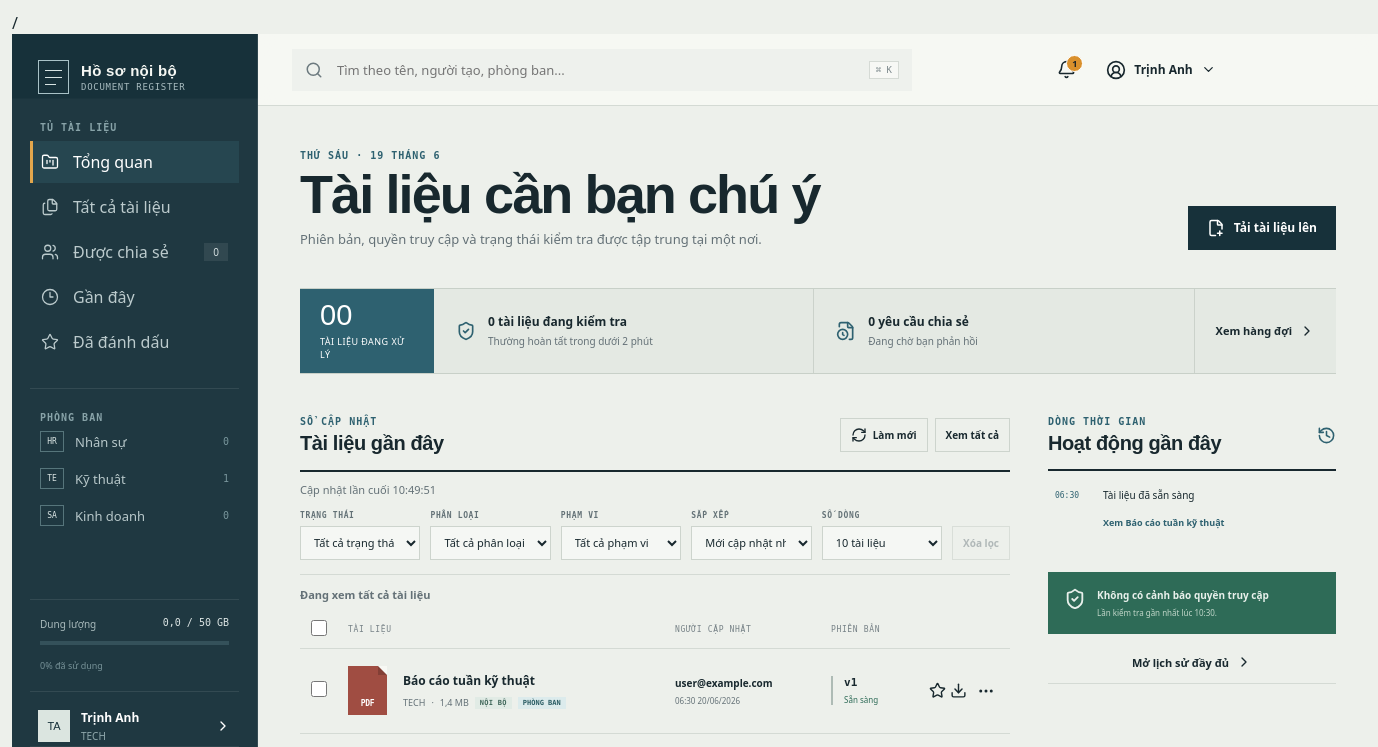
Test case: App › điều hướng sidebar sang trang tất cả tài liệu và quay lại tổng quan
Expected: the button "Báo cáo tuần kỹ thuật" is shown, [403,672,535,689]
Click the button "Tất cả tài liệu".
click(134, 207)  # box [30,186,239,228]
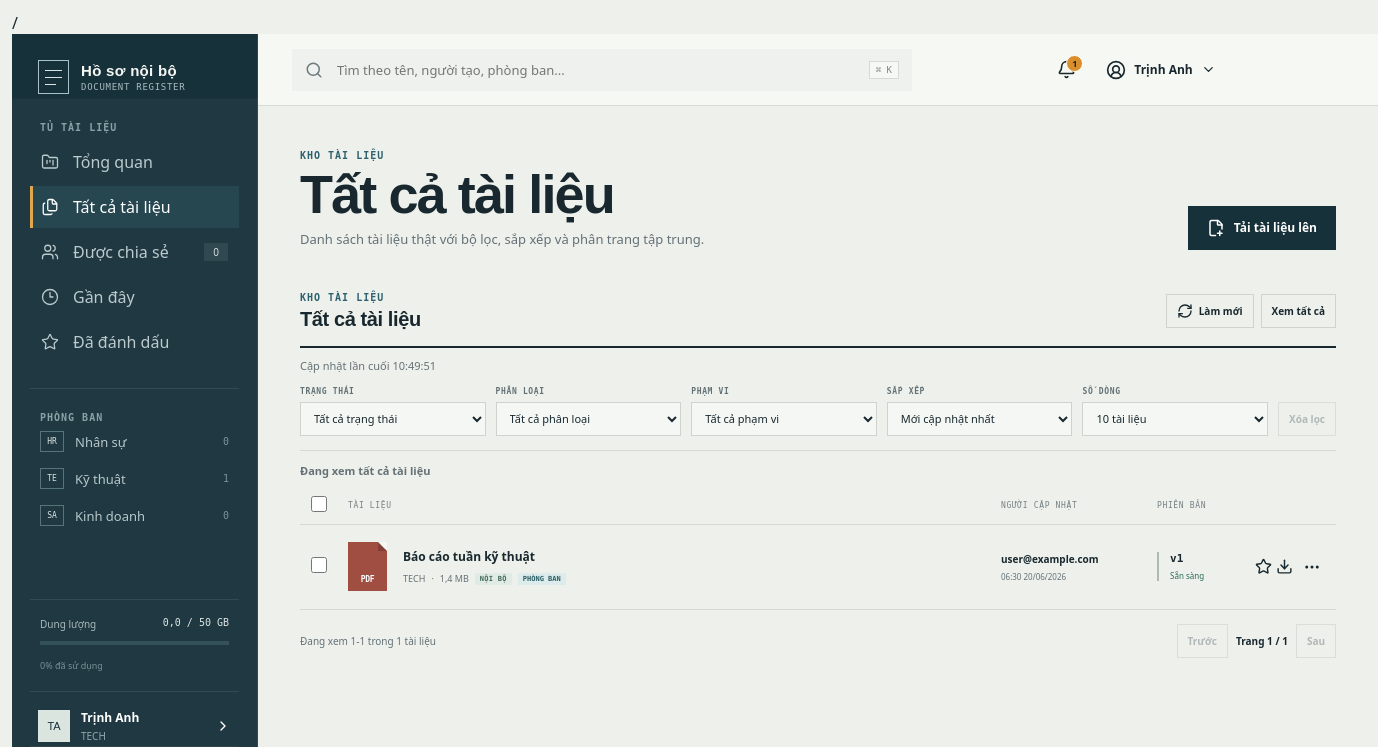
Result: the 1st heading "Tất cả tài liệu" is shown at [300,164,614,224]
Result: the heading "Tài liệu gần đây" is gone
Result: the heading "Hoạt động gần đây" is gone
Click the button "Tổng quan".
click(134, 162)  # box [30,141,239,183]
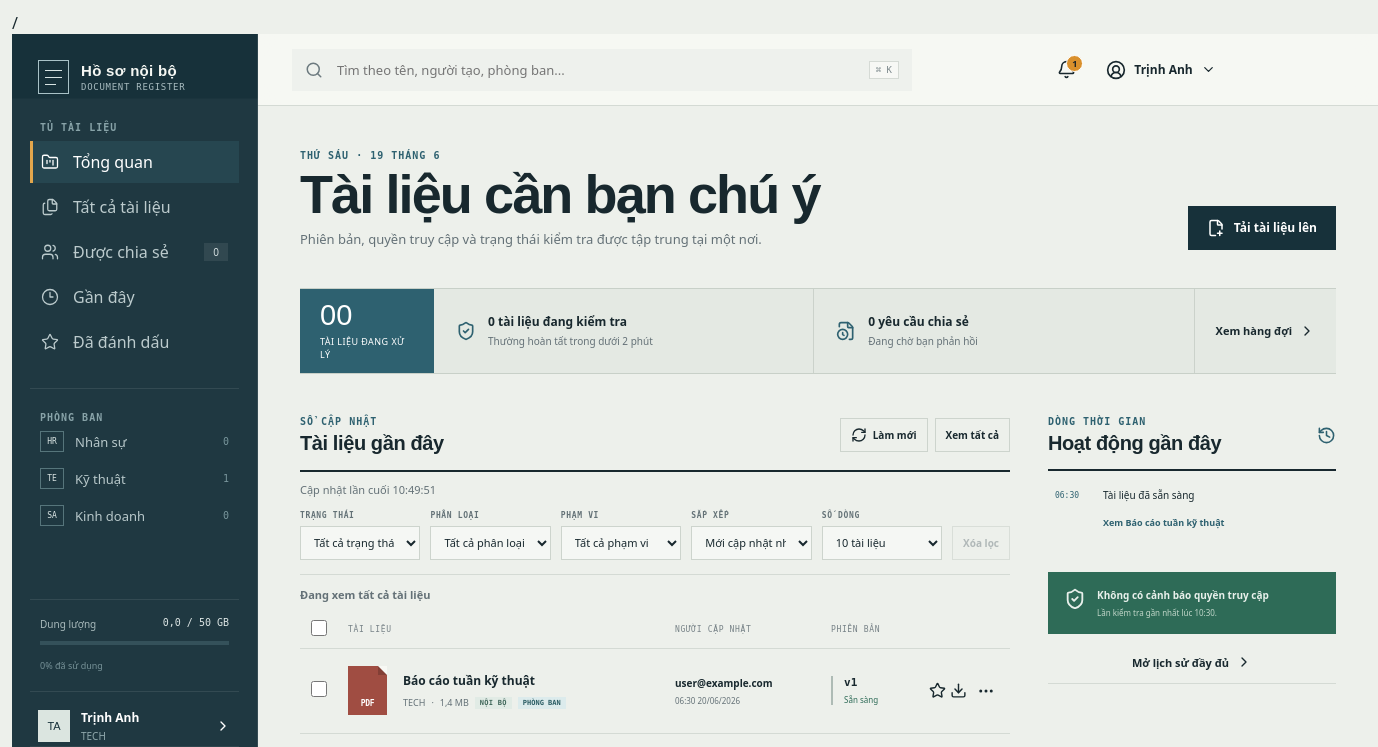
Result: the heading "Tài liệu cần bạn chú ý" is shown at [300,168,820,221]
Result: the heading "Tài liệu gần đây" is shown at [300,432,444,455]
